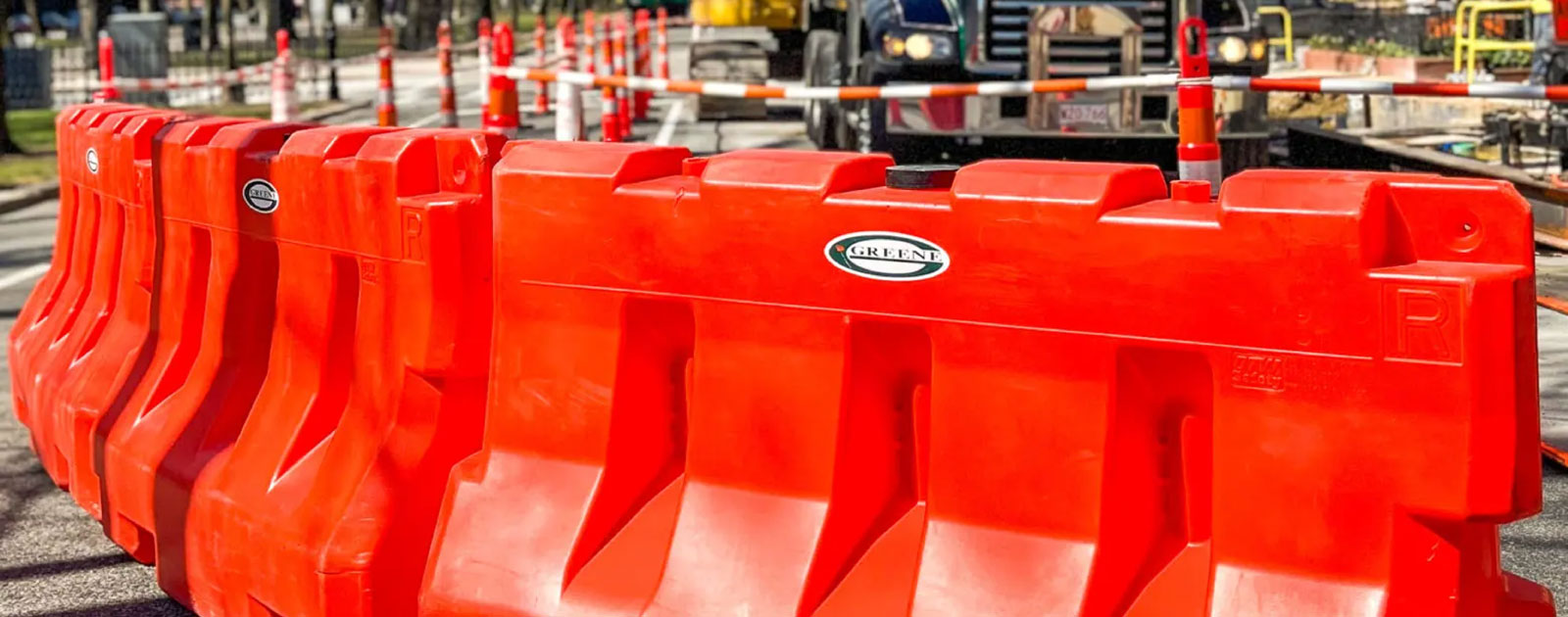Barrier: (20, 60, 1560, 611)
